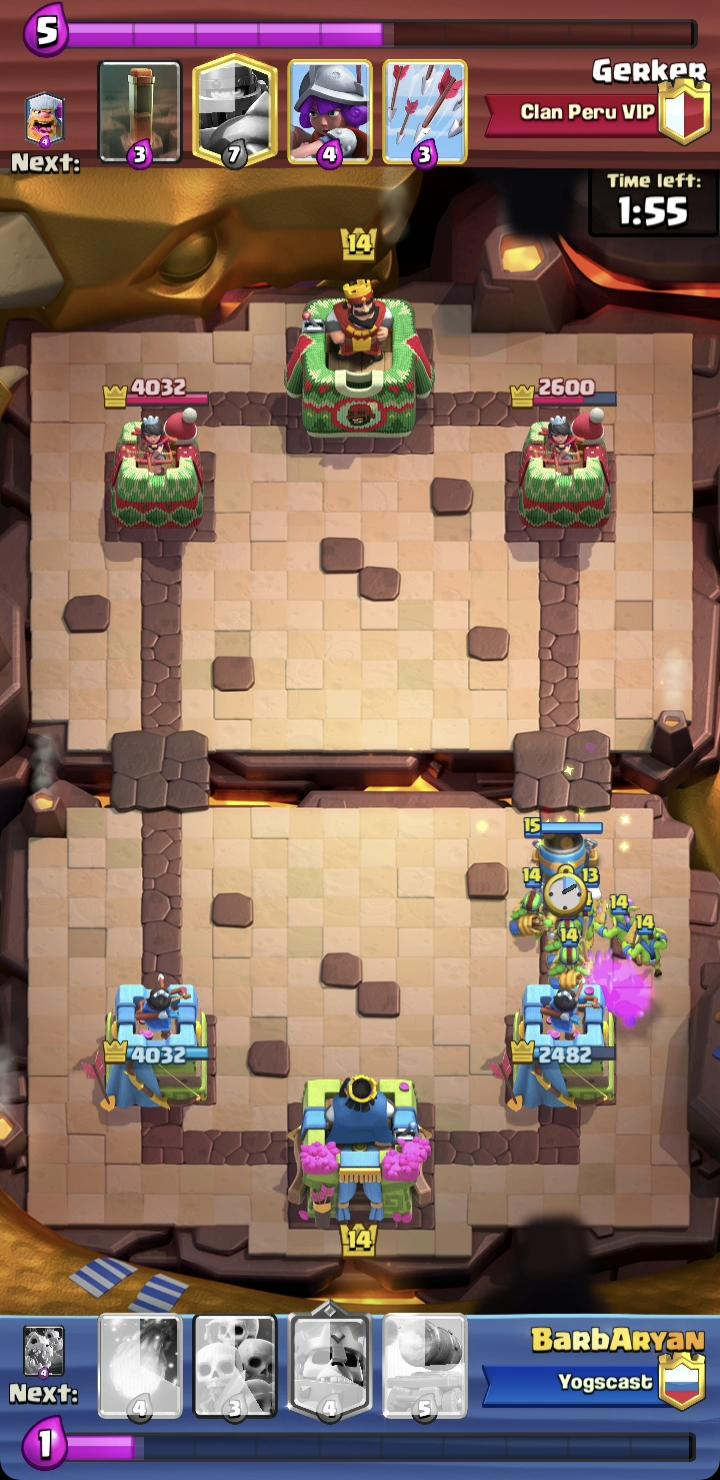ally_goblin: (594, 893, 642, 959), (625, 913, 668, 978), (567, 890, 603, 940)
ally_mortar: (523, 816, 603, 896)
ally_spear_goblin: (508, 866, 553, 937), (548, 926, 593, 989), (548, 903, 589, 957)
